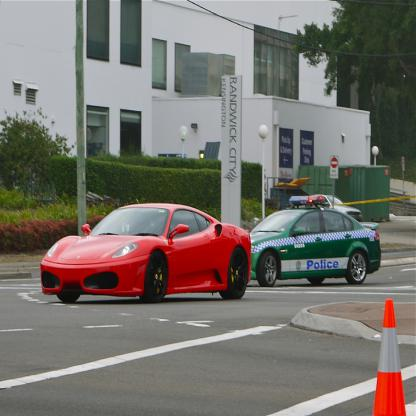Car: (40, 202, 252, 303), (249, 195, 381, 287), (296, 193, 362, 222)
